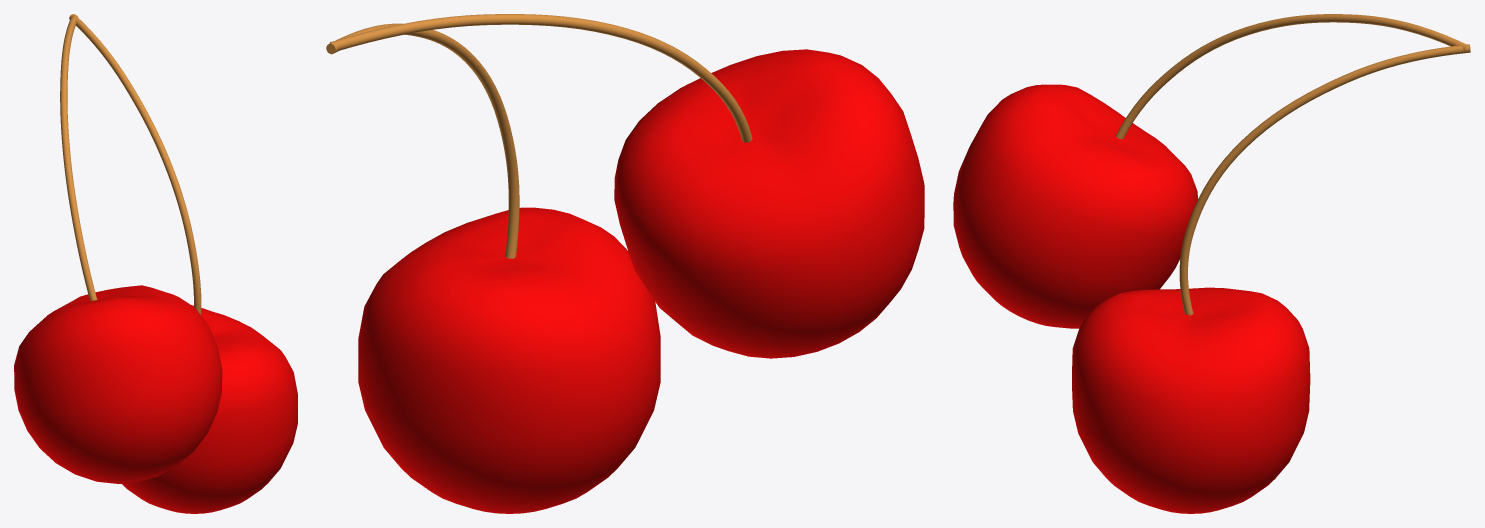
File: cereza.fbx
3 views of the same model, side by side, from view 1: azimuth 30°, elevation 25°; view 2: azimuth 150°, elevation 25°; view 3: azimuth 270°, elevation 25° (orthographic). The views are drawn at different scales.
Visible parts, largest first — view 1: Sphere, Sphere_2, Sweep_4, Sweep; view 2: Sphere, Sphere_2, Sweep, Sweep_4; view 3: Sphere_2, Sphere, Sweep_4, Sweep.
Part boxes in pixels (<box>): Sphere: <box>14,285,222,483</box>; Sphere_2: <box>122,305,297,513</box>; Sweep_4: <box>69,14,201,315</box>; Sweep: <box>60,14,97,301</box>; Sphere: <box>614,49,924,358</box>; Sphere_2: <box>358,207,660,513</box>; Sweep: <box>329,14,752,142</box>; Sweep_4: <box>326,23,519,258</box>; Sphere_2: <box>1072,287,1310,513</box>; Sphere: <box>953,84,1197,328</box>; Sweep_4: <box>1179,44,1470,315</box>; Sweep: <box>1116,14,1467,139</box>.
Bounding box in the file's own units: 341 × 427 × 433.
